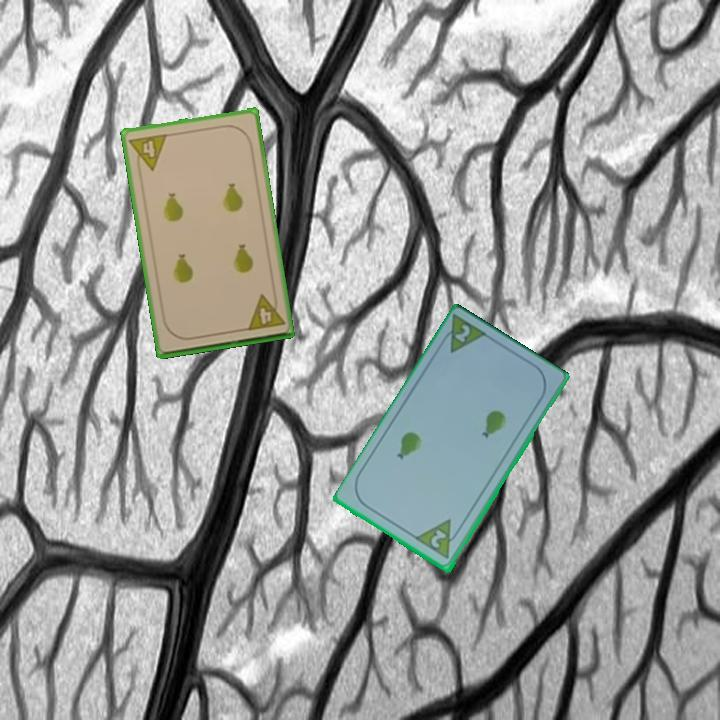2p: (435, 312, 491, 357), (413, 516, 465, 562)
4p: (126, 130, 170, 175), (243, 290, 287, 333)
